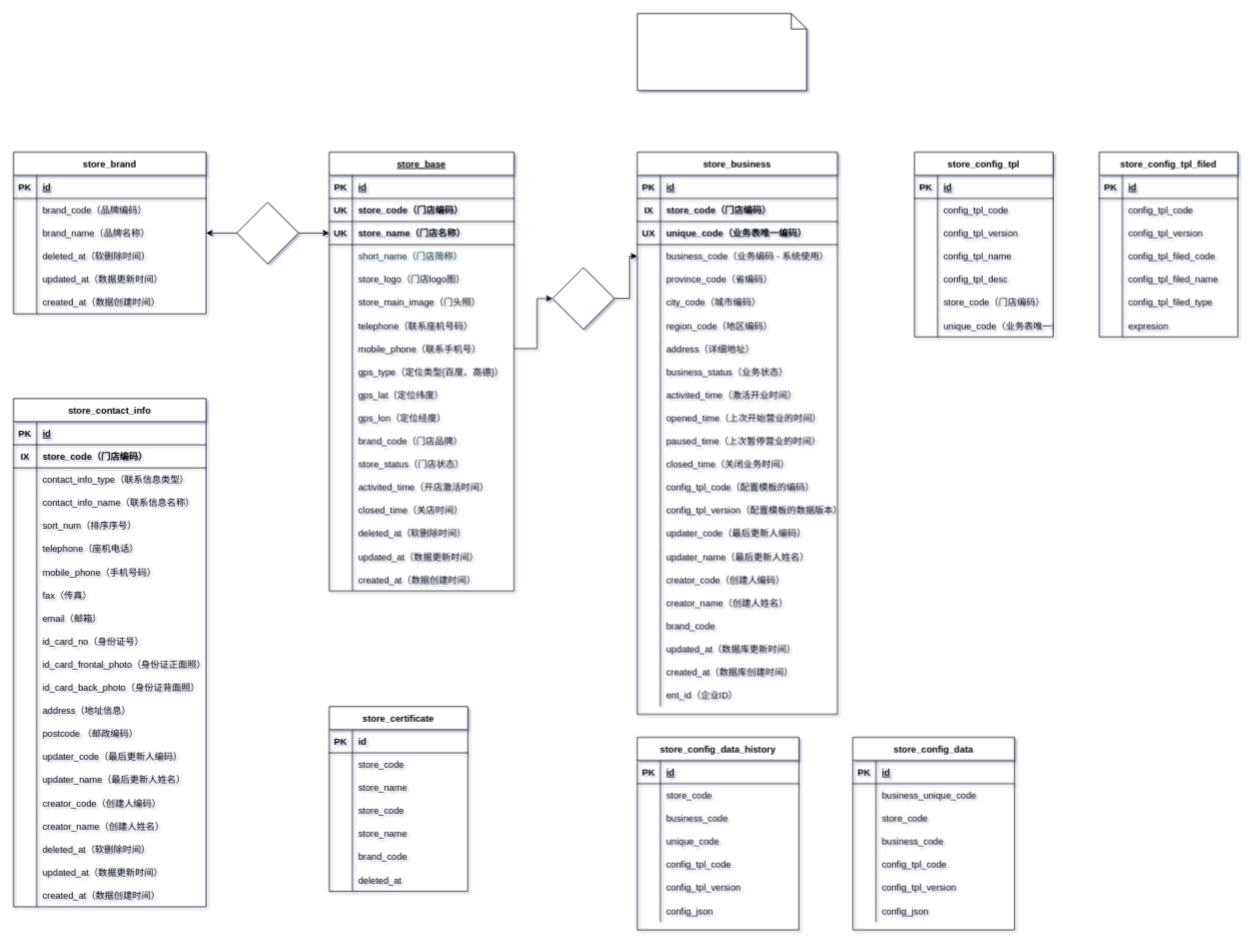
This 1256x948 diagram has some shape labels left out. The shapes that lost their labels are listed below. From the top down, each one's centre as x and y in pixels, then its label:
At point 721,51: "应用端按需查询".
At point 267,232: "归属品牌".
At point 583,298: "开通业务".
